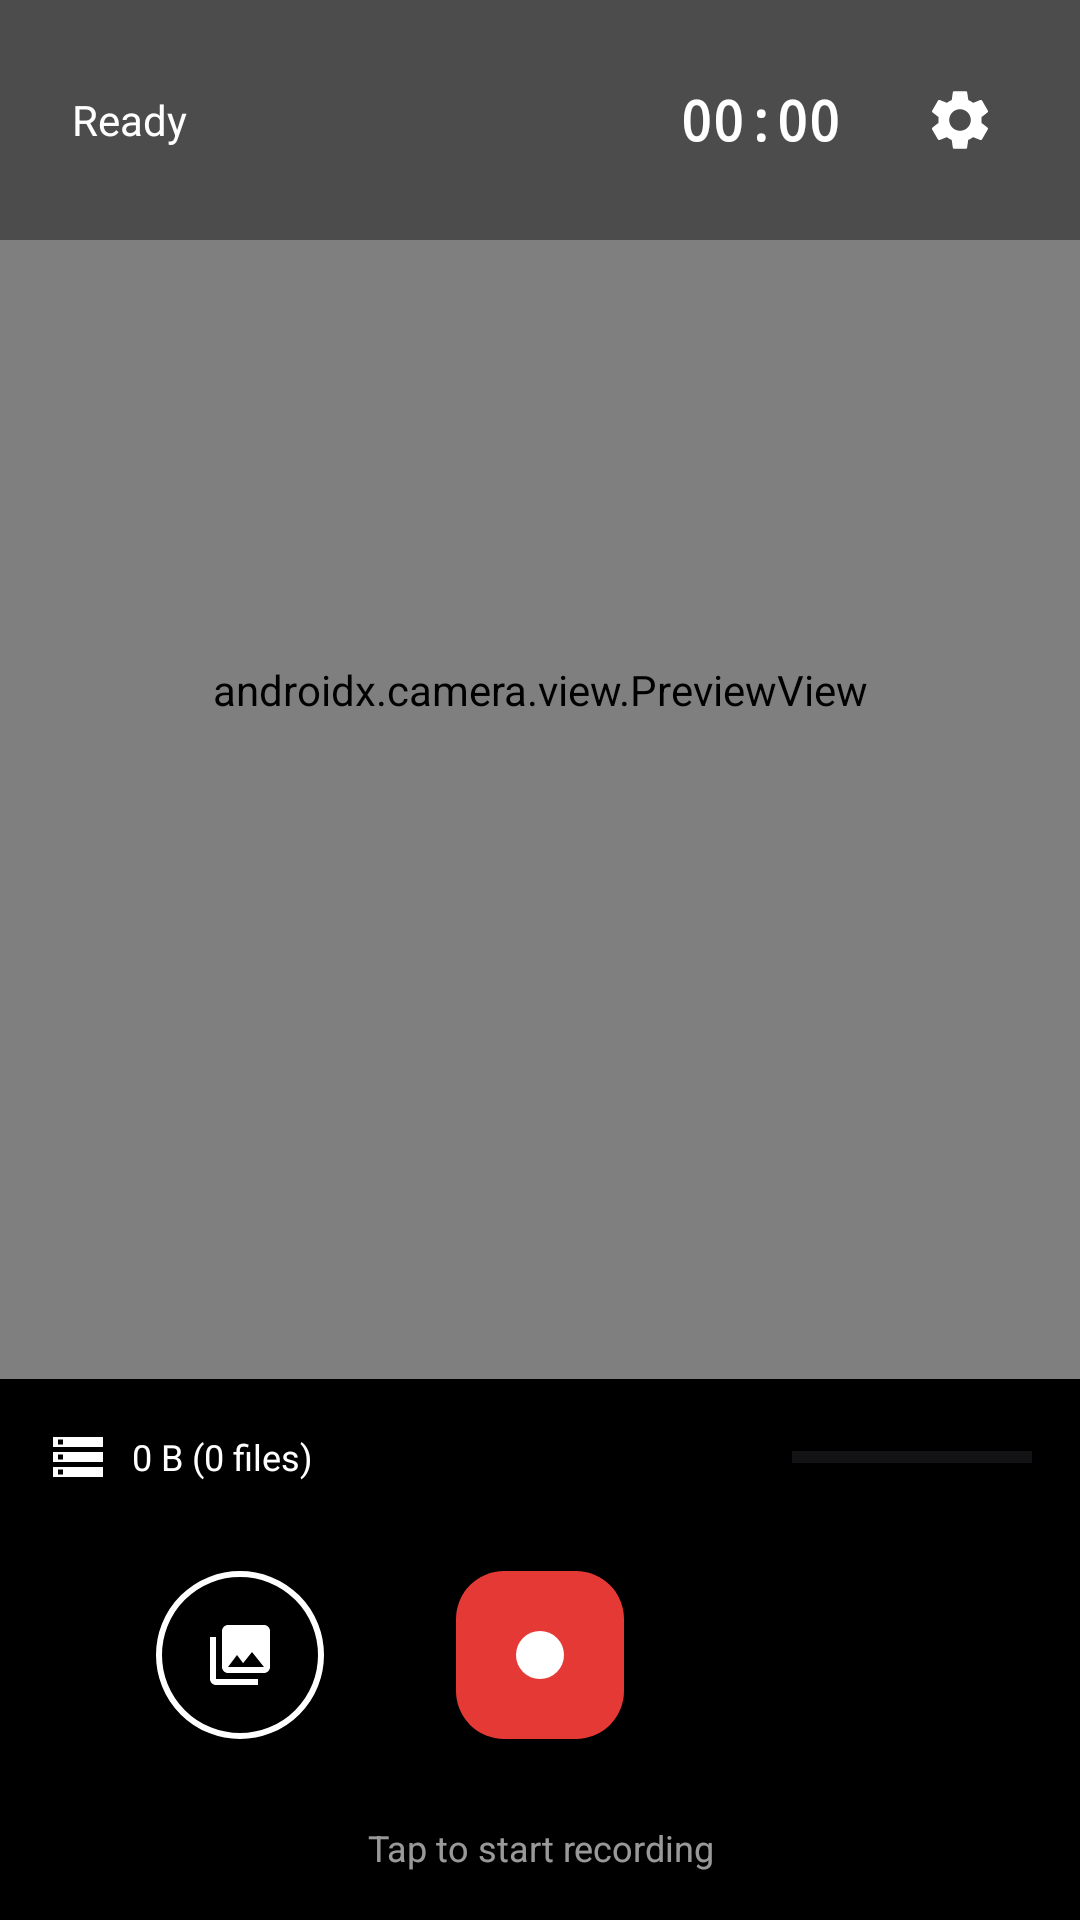

Screen size 1080px×1920px. Icon name, then its box in pixels as (x1, y1, x2, y2):
Gallery: (156, 1571, 324, 1739)
Settings: (932, 91, 988, 149)
storage: (53, 1437, 103, 1477)
